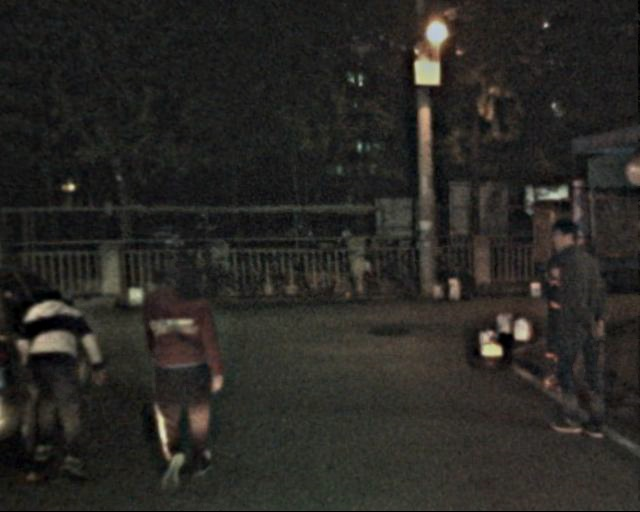person: (136, 245, 235, 484), (24, 265, 108, 472), (539, 214, 615, 442)
